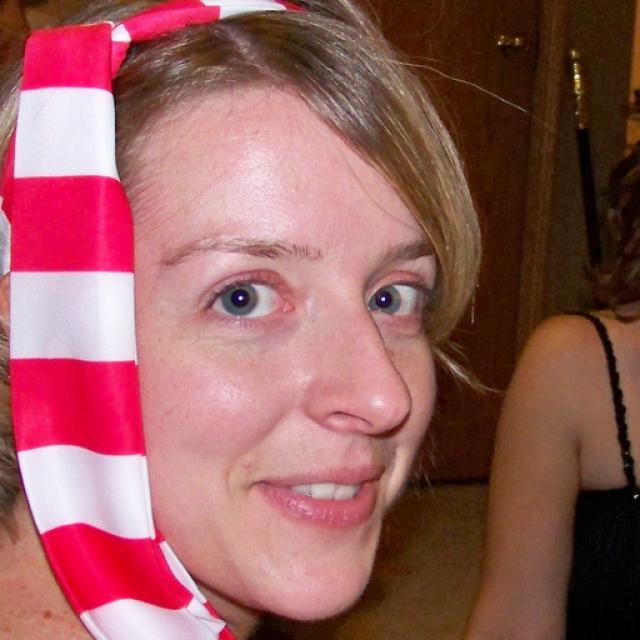Acne: (230, 445, 268, 476)
